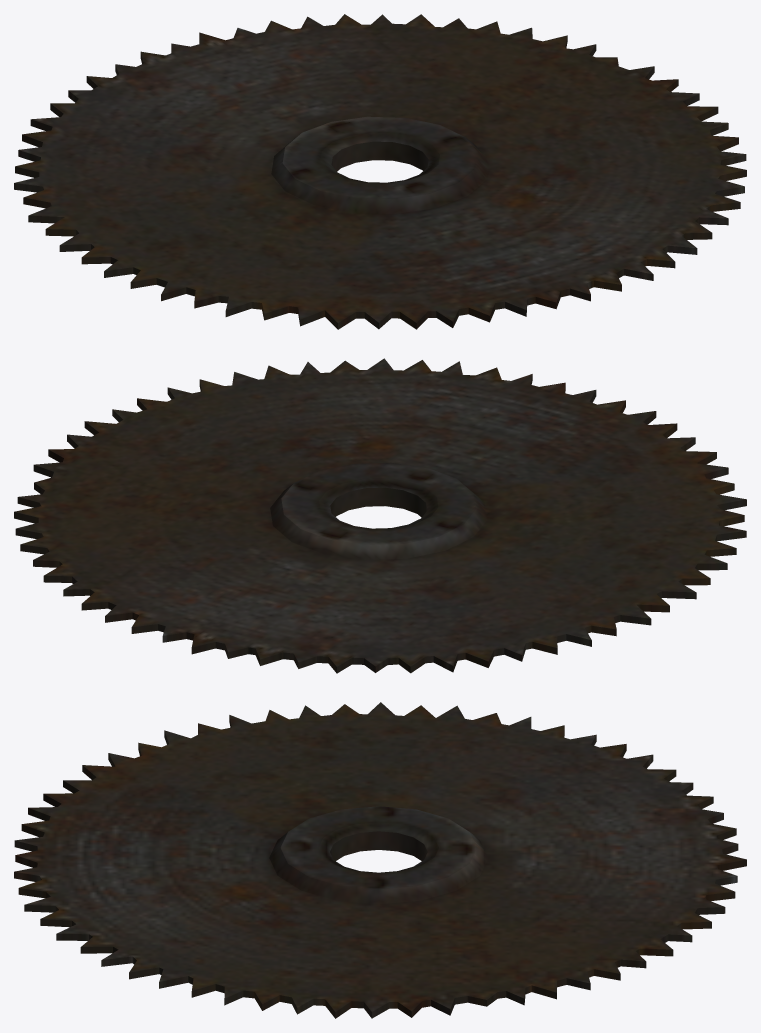
Rendered from saw_blade_1.obj.
3 views of the same model, one above another, from view 1: azimuth 30°, elevation 25°; view 2: azimuth 150°, elevation 25°; view 3: azimuth 270°, elevation 25° (orthographic).
Visible parts, largest first — view 1: saw_blade_1; view 2: saw_blade_1; view 3: saw_blade_1.
Part boxes in pixels (x1,y1,x2,y2): saw_blade_1: (14, 14, 746, 329); saw_blade_1: (14, 358, 746, 673); saw_blade_1: (14, 702, 746, 1018).
Bounding box in the file's own units: 0.5934 × 0.024 × 0.5927.
